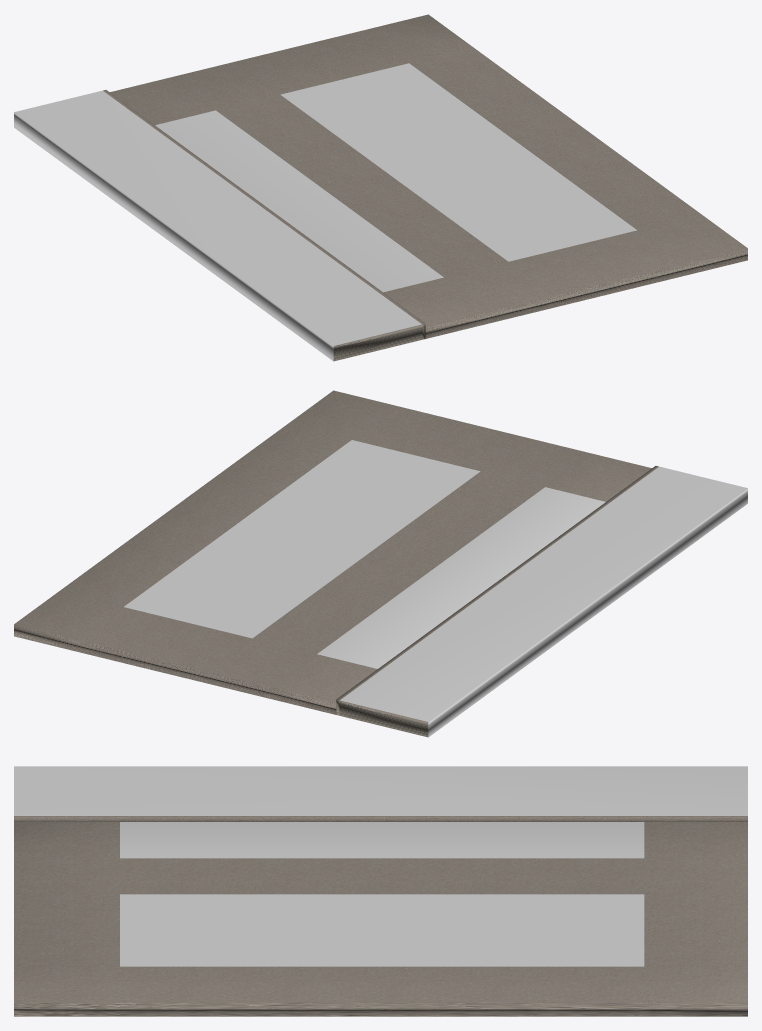
File: parking_lot.fbx
The picture shows the model from 3 angles, top to bottom: view 1: azimuth 30°, elevation 25°; view 2: azimuth 150°, elevation 25°; view 3: azimuth 270°, elevation 25°; orthographic projection. The views are drawn at different scales.
Parts seen in each view (by area): view 1: Mesh (5); view 2: Mesh (5); view 3: Mesh (5).
Part boxes in pixels (left/top/right/bottom): Mesh (5): left=14, top=14, right=747, bottom=361; Mesh (5): left=14, top=390, right=747, bottom=737; Mesh (5): left=14, top=766, right=747, bottom=1016.
Size of the model in its own units: 1797 by 64.1 by 2400.
